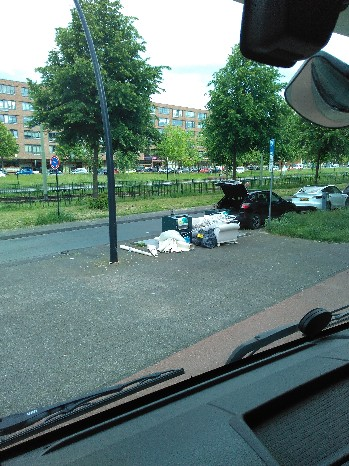Container: (162, 211, 189, 231)
Rest: (190, 207, 231, 243), (151, 233, 188, 255)
Voertuig: (226, 183, 279, 227), (298, 185, 349, 211)
